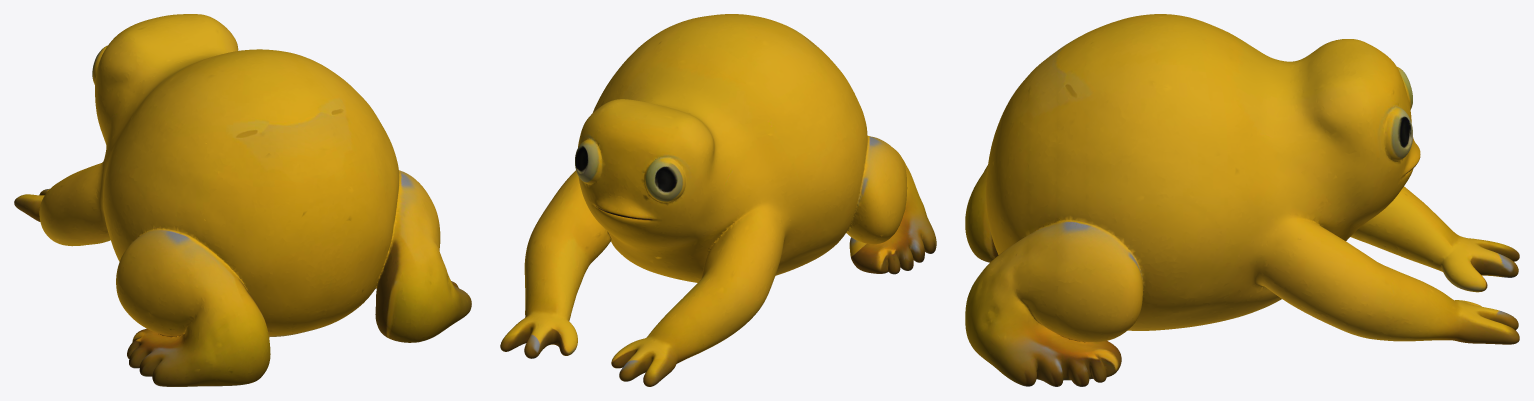
The model's file is naiwa.glb.
3 views of the same model, side by side, from view 1: azimuth 30°, elevation 25°; view 2: azimuth 150°, elevation 25°; view 3: azimuth 270°, elevation 25° (orthographic). The views are drawn at different scales.
Parts seen in each view (by area): view 1: tripo_node_454e4953; view 2: tripo_node_454e4953; view 3: tripo_node_454e4953.
Boxes of the visible parts, left/top/right/bottom form: tripo_node_454e4953: left=14, top=14, right=471, bottom=386; tripo_node_454e4953: left=500, top=14, right=936, bottom=386; tripo_node_454e4953: left=965, top=14, right=1519, bottom=386.
Bounding box in the file's own units: 0.7409 × 0.5536 × 1.
Materials: 1 (1 with a texture image).
